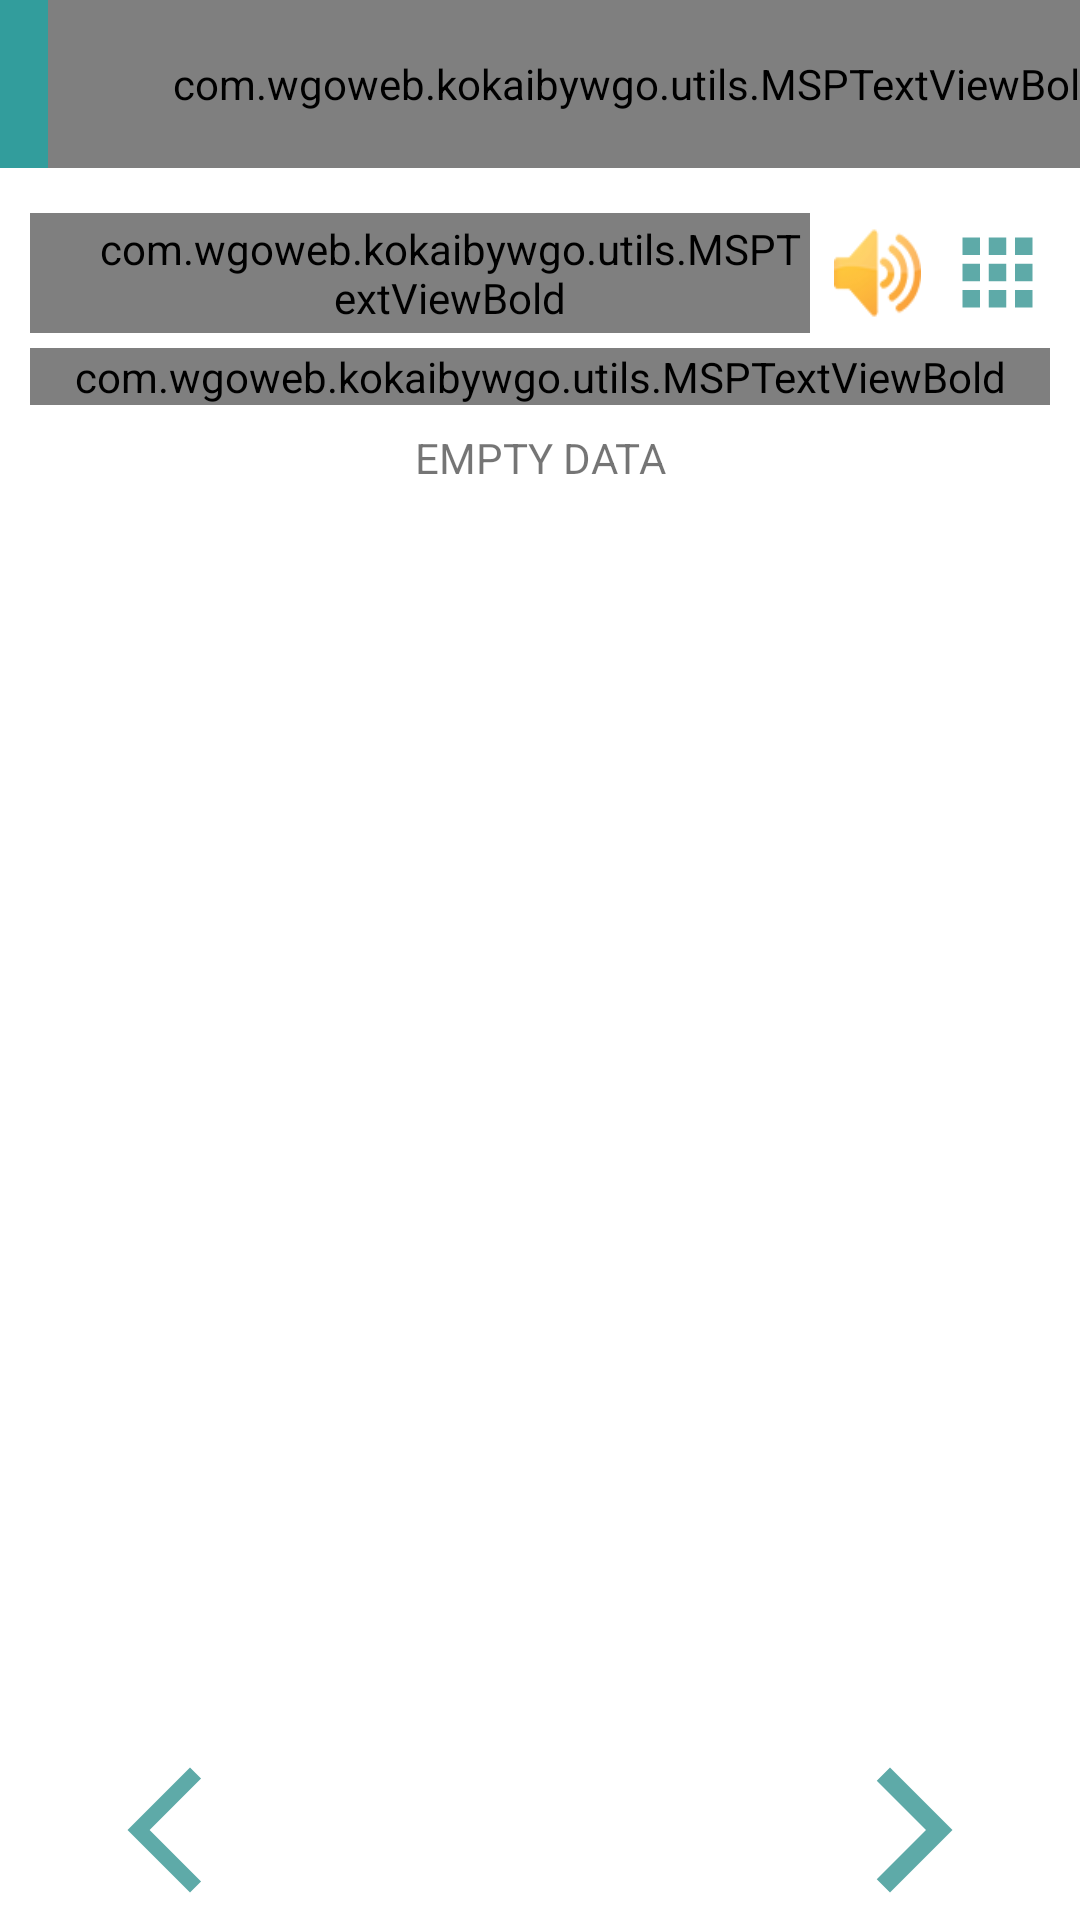

Screen size 1080px x 1920px. Icon name, then its box in pixels as (x1, y1, x2, y2):
tool bar grid: (962, 237, 1033, 308)
tts play back: (128, 1768, 201, 1892)
tts play next: (877, 1768, 952, 1892)
